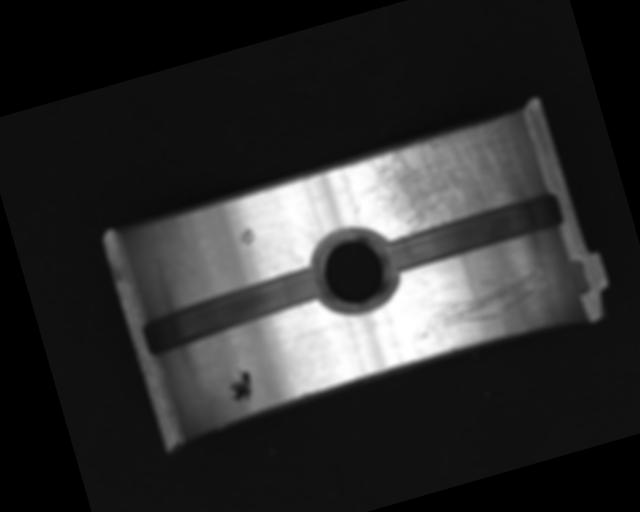blot: (221, 366, 257, 408)
bruise: (234, 224, 258, 248)
gap: (136, 264, 330, 355), (378, 188, 567, 278)
hole: (303, 221, 407, 324)
nick: (405, 264, 546, 343), (285, 213, 320, 251)
scratch: (338, 111, 541, 250)
